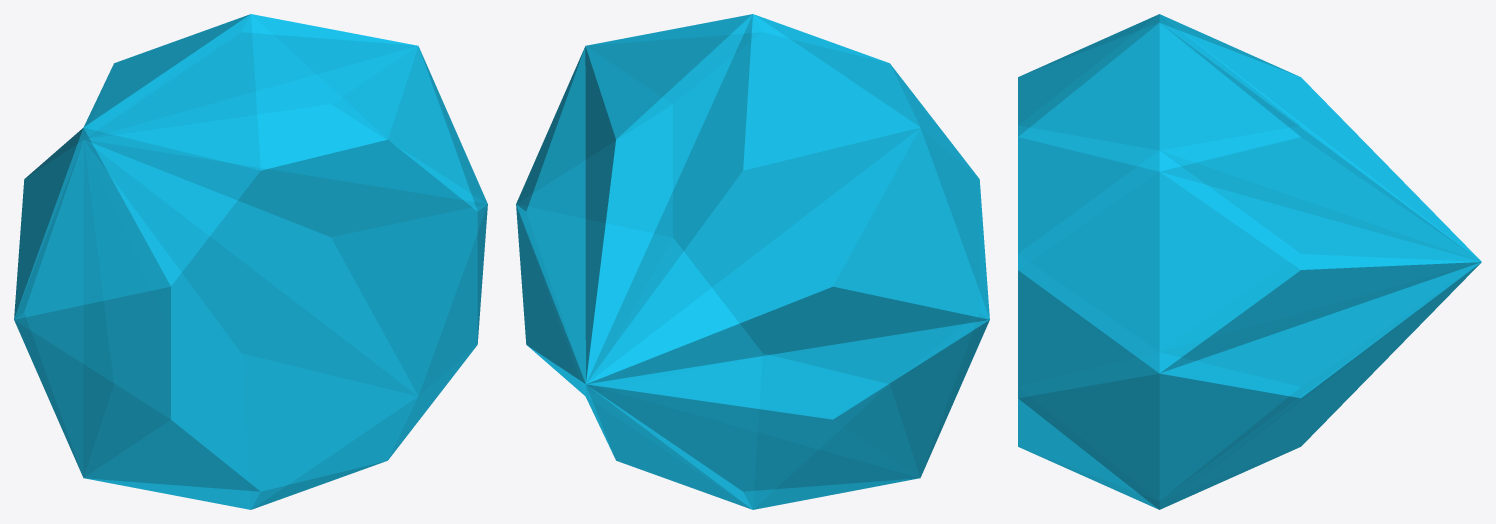
File: OctagonalAntiprism2.obj
3 renders of one model, left to right at view 1: azimuth 30°, elevation 25°; view 2: azimuth 150°, elevation 25°; view 3: azimuth 270°, elevation 25°, orthographic. The views are drawn at different scales.
Size of the model in its own units: 2.48 by 2.48 by 2.18.
